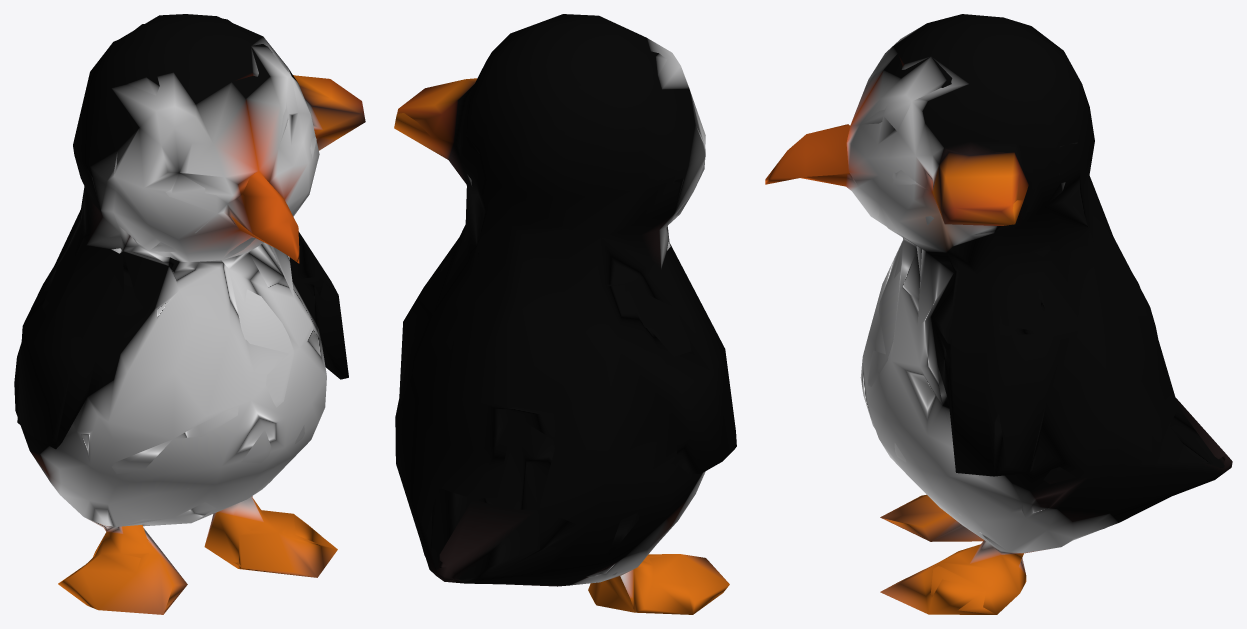
The model's file is gen3d-puffin-lod1.glb.
3 renders of one model, left to right at view 1: azimuth 30°, elevation 25°; view 2: azimuth 150°, elevation 25°; view 3: azimuth 270°, elevation 25°, orthographic. The views are drawn at different scales.
Visible parts, largest first — view 1: part_0; view 2: part_0; view 3: part_0.
Part boxes in pixels (bbox=[...]): part_0: bbox=[14, 14, 365, 614]; part_0: bbox=[394, 14, 736, 614]; part_0: bbox=[765, 14, 1232, 614].
Bounding box in the file's own units: 0.606 × 1 × 0.7964.
